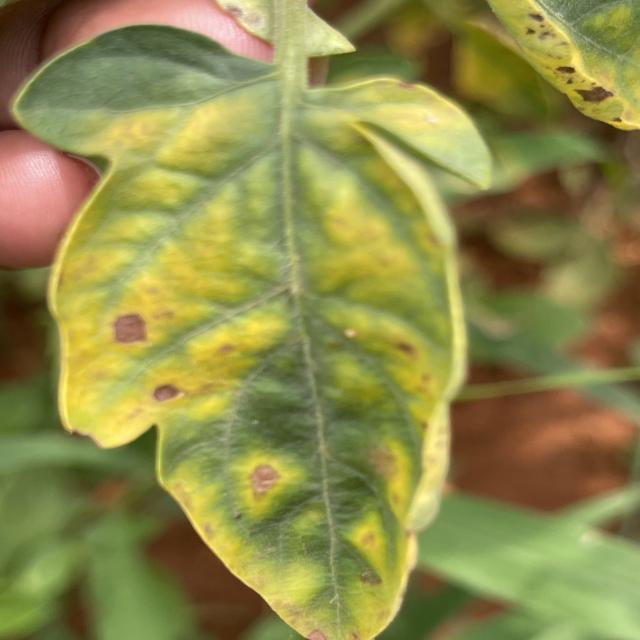tomato_early blight: (12, 21, 491, 640), (485, 0, 640, 132)
